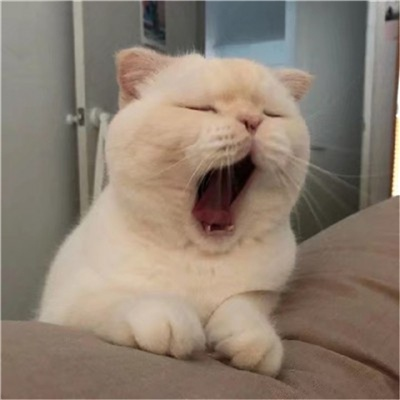cat: (104, 44, 330, 269)
